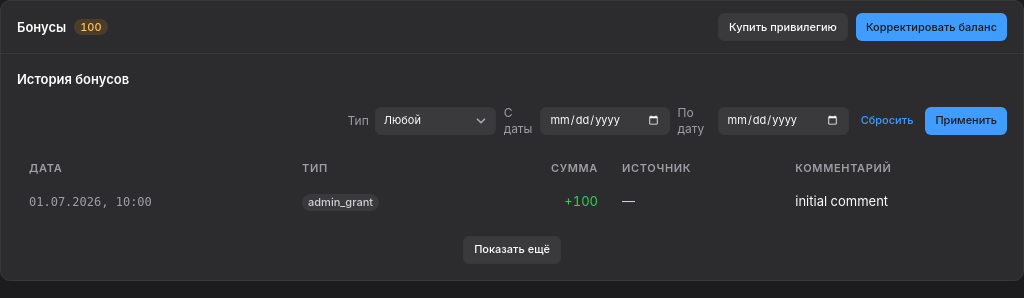
Test: BonusSection — race between loadMore() and a filter-driven load() (#433) › ignores a stale loadMore() response that resolves after a newer filter load()
Expected: the text "initial comment" is shown, x1=795 y1=193 x2=888 y2=209
Click the button "Показать ещё": (512, 250) x1=463 y1=236 x2=561 y2=264
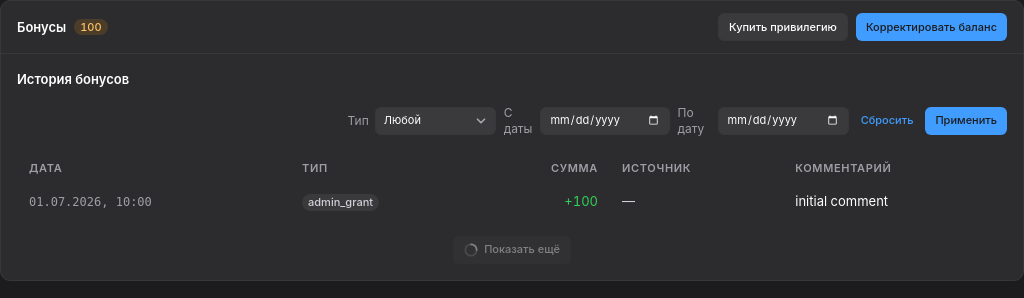
Click the button "Применить": (966, 121) x1=925 y1=107 x2=1007 y2=135
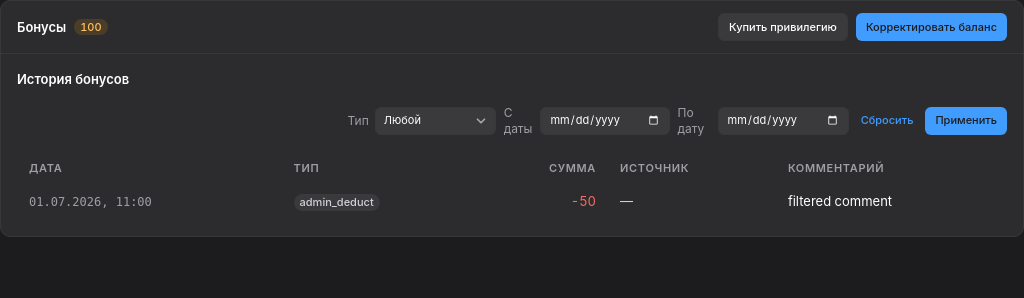
Expected: the text "initial comment" is gone
Expected: the text "filtered comment" is shown, x1=788 y1=193 x2=892 y2=209
